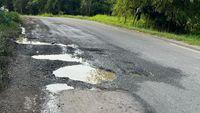Pothole: (49, 60, 131, 89), (12, 26, 63, 50), (28, 49, 100, 65), (39, 80, 77, 98)
